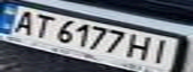1: (69, 21, 93, 48)
6: (48, 18, 78, 45)
7: (103, 27, 127, 56), (87, 25, 109, 52)
A: (3, 8, 42, 36)
H: (124, 33, 157, 62)
I: (145, 37, 178, 65)
T: (24, 12, 60, 39)
